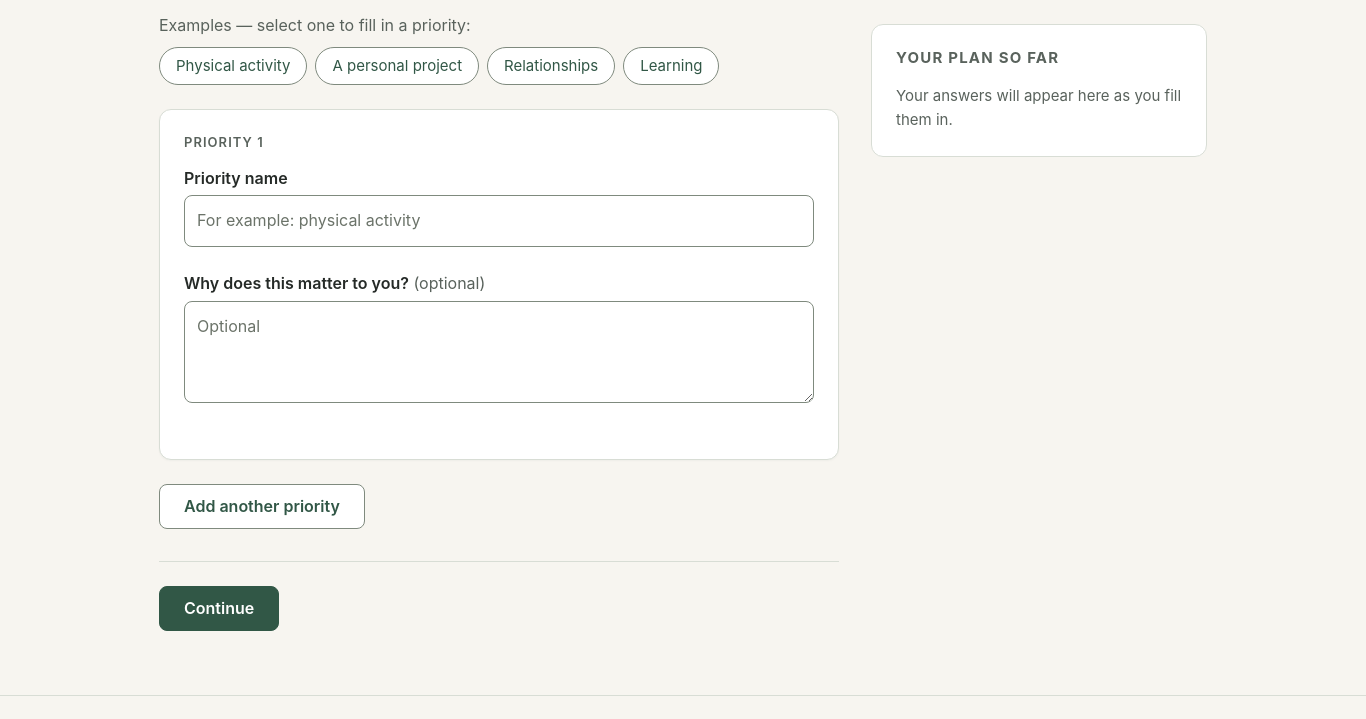
Test: the planner › requires at least one priority before continuing
Earlier steps of the test are not shown.
(page scrolled)
Step 1. Click the button "Continue" → (219, 609), box left=159, top=586, right=279, bottom=631
(page scrolled)
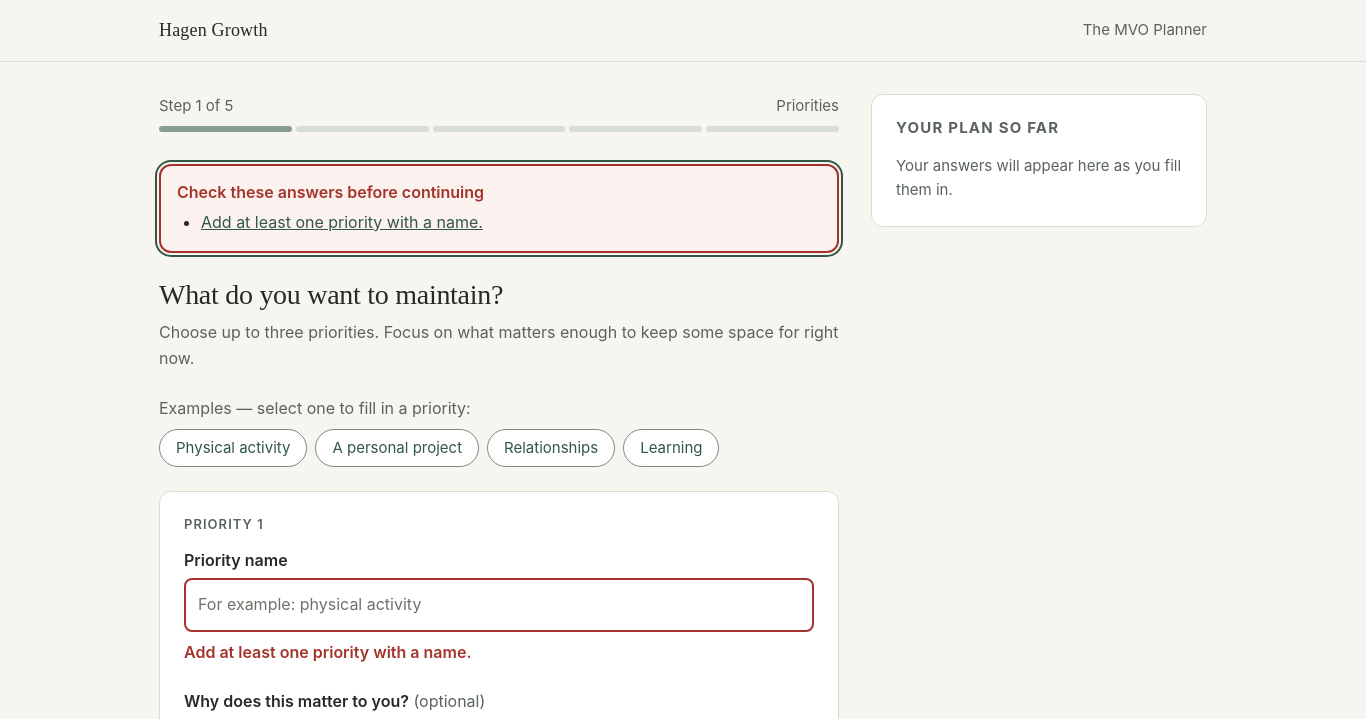
expect the heading "What do you want to maintain?" is shown: met, box left=159, top=279, right=503, bottom=310
expect the number of links "Add at least one priority with a name." is 2: met, box left=201, top=212, right=483, bottom=232; left=184, top=642, right=472, bottom=662
